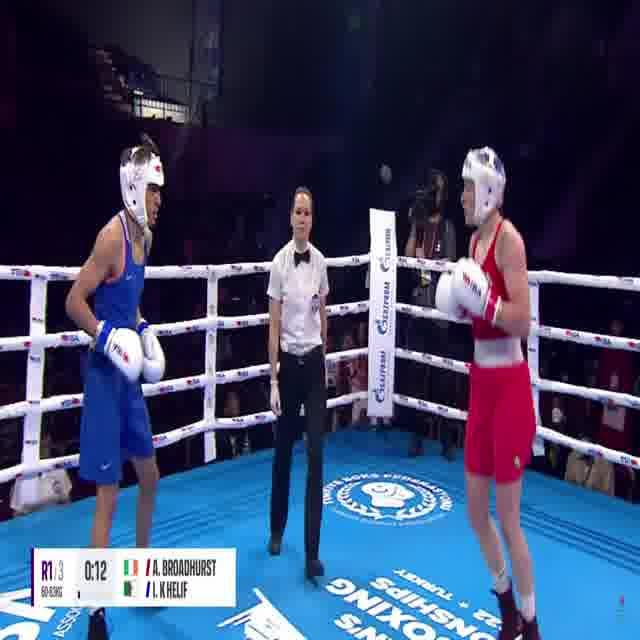blue-player: (64, 129, 168, 640)
red-player: (433, 143, 546, 640)
referee: (263, 183, 336, 584)
